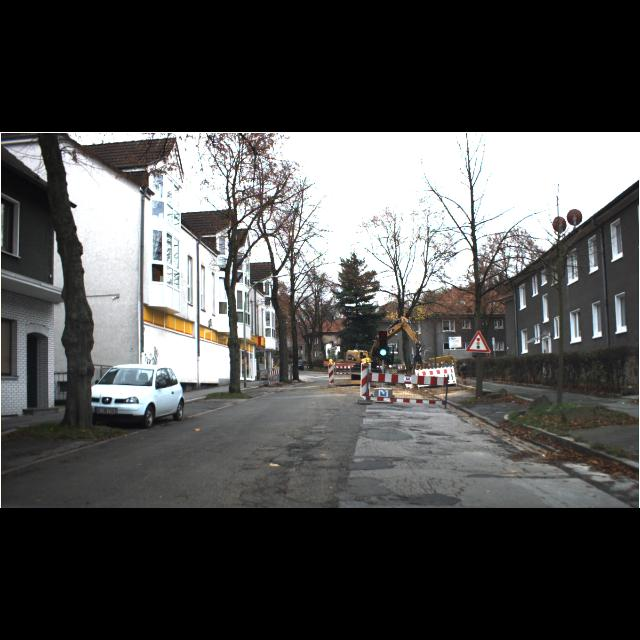danger: (466, 330, 490, 352)
